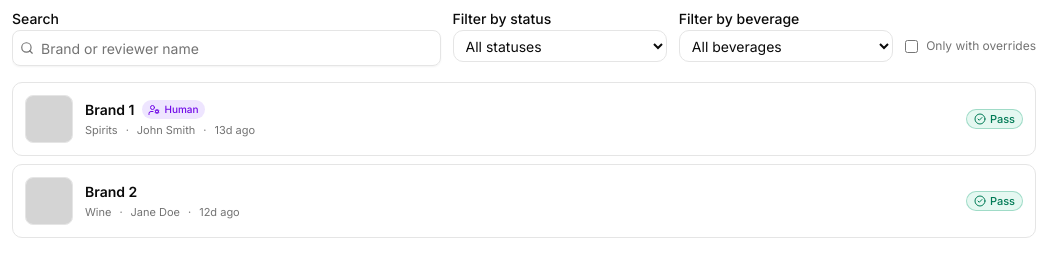
Scenario: ReviewHistoryList › filters by beverage type
This screenshot has width=1048, height=255.
Select "Wine" in the dropdown labelled "Filter by beverage": (786, 46) [679,30,893,62]
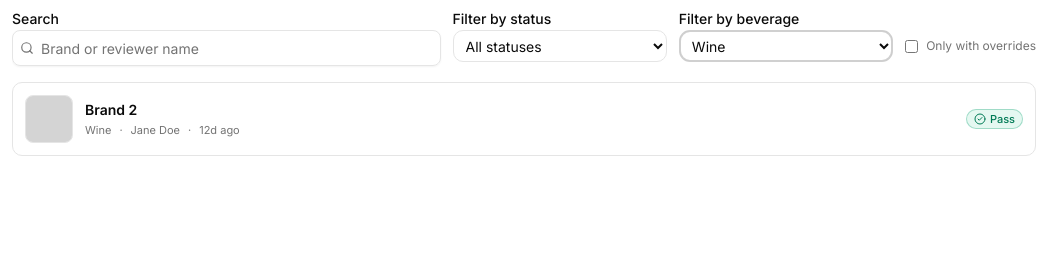
Check: the number of list items with test id "review-history-row" is 1, box [12,82,1036,156]
